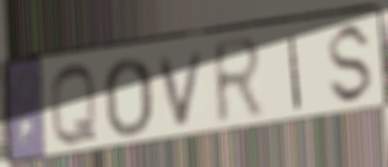I: (286, 32, 304, 112)
O: (102, 55, 155, 140)
Q: (47, 61, 101, 152)
R: (209, 33, 267, 132)
S: (325, 19, 376, 108)
V: (156, 46, 209, 130)
